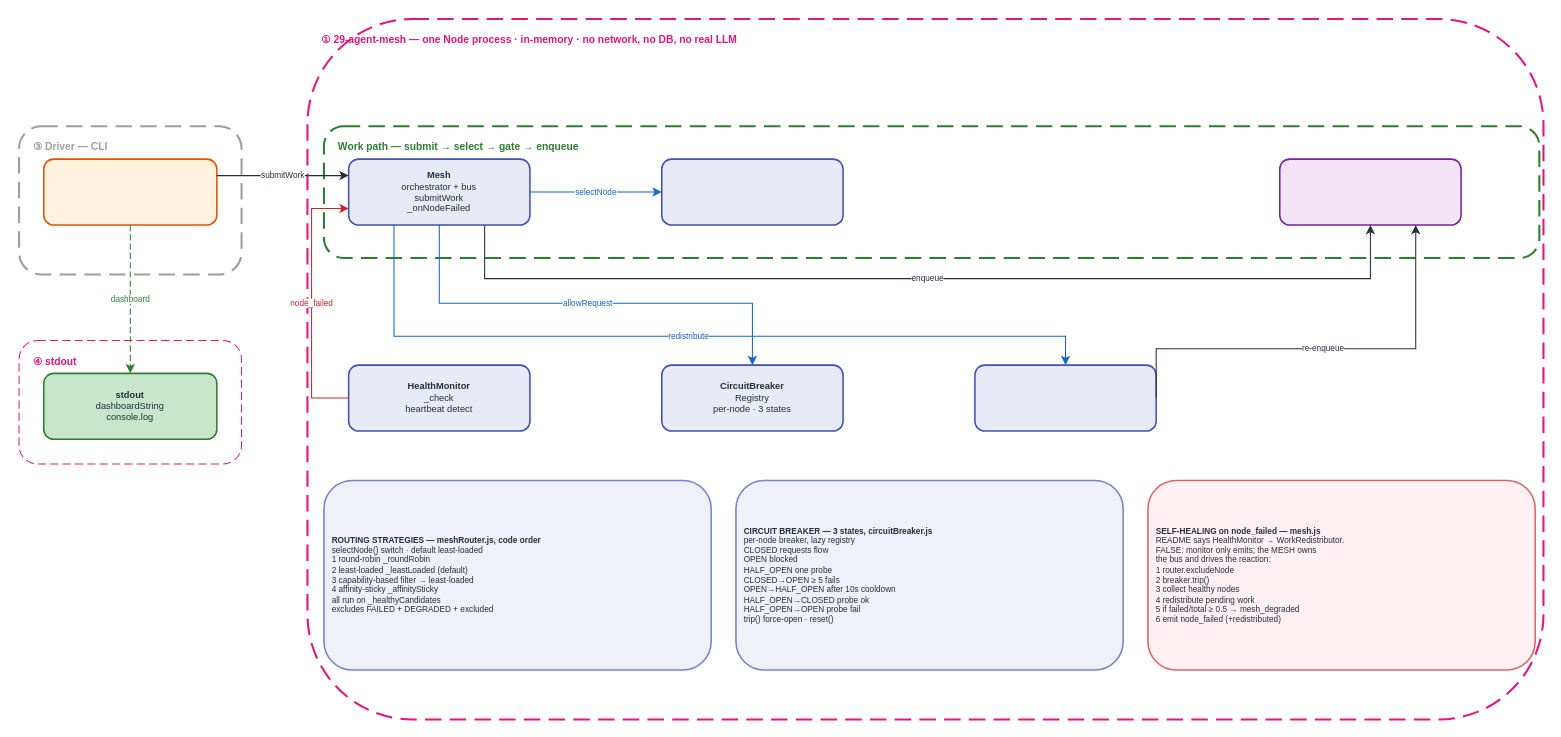
Some shapes in this 1561 by 737 pixel diagram are drawn without their labels. Each missing label, with the box of its shape:
AgentNode ×N enqueue queue · health · caps processor = async fn: (1279, 158, 1461, 225)
demo.js CLI · 5 scenarios main(): (43, 158, 217, 225)
MeshRouter selectNode 4 strategies: (661, 158, 843, 225)
WorkRedistributor redistribute capability + cascade: (974, 364, 1156, 431)
